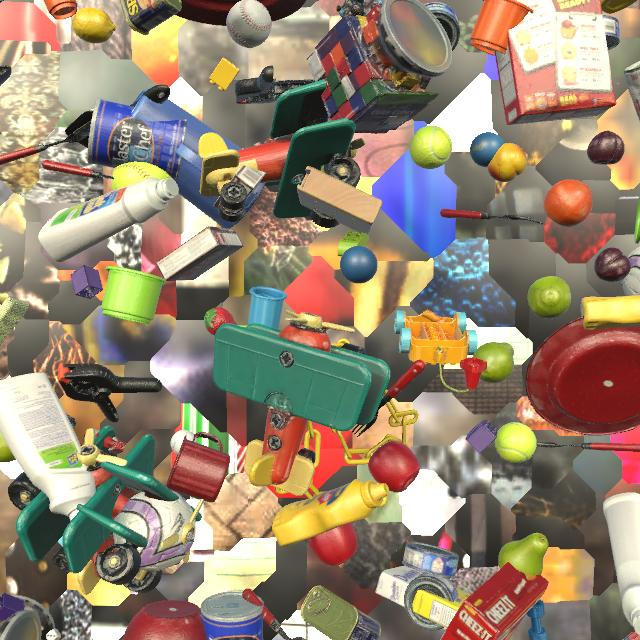ycb_002_master_chef_can: (87, 98, 187, 180), (201, 591, 264, 640)
ycb_003_cracker_box: (494, 0, 617, 125), (440, 562, 549, 640)
ycb_004_sugar_box: (375, 566, 471, 628)
ycb_005_tomato_soup_can: (624, 61, 640, 121)
ycb_006_mustard_bottle: (272, 479, 389, 547), (580, 295, 640, 330), (601, 0, 637, 14)
ycb_007_tuna_fish_can: (404, 573, 459, 630), (402, 541, 459, 578), (423, 2, 460, 51), (602, 15, 620, 50)
ycb_008_pudding_box: (156, 226, 244, 281), (214, 140, 267, 209)
ycb_010_potted_meat_can: (301, 585, 381, 640), (120, 0, 182, 35)
ycb_012_strawberry: (204, 307, 237, 335)
ycb_013_apple: (368, 441, 420, 493), (307, 523, 358, 566)
ycb_014_lemon: (72, 7, 116, 44)
ycb_015_peach: (487, 143, 527, 182)
ycb_016_pear: (498, 533, 548, 575), (528, 276, 571, 319), (473, 342, 514, 383), (0, 431, 16, 463)
ycb_017_orange: (544, 179, 593, 227)
ycb_018_plum: (594, 247, 631, 282), (587, 131, 625, 165)
